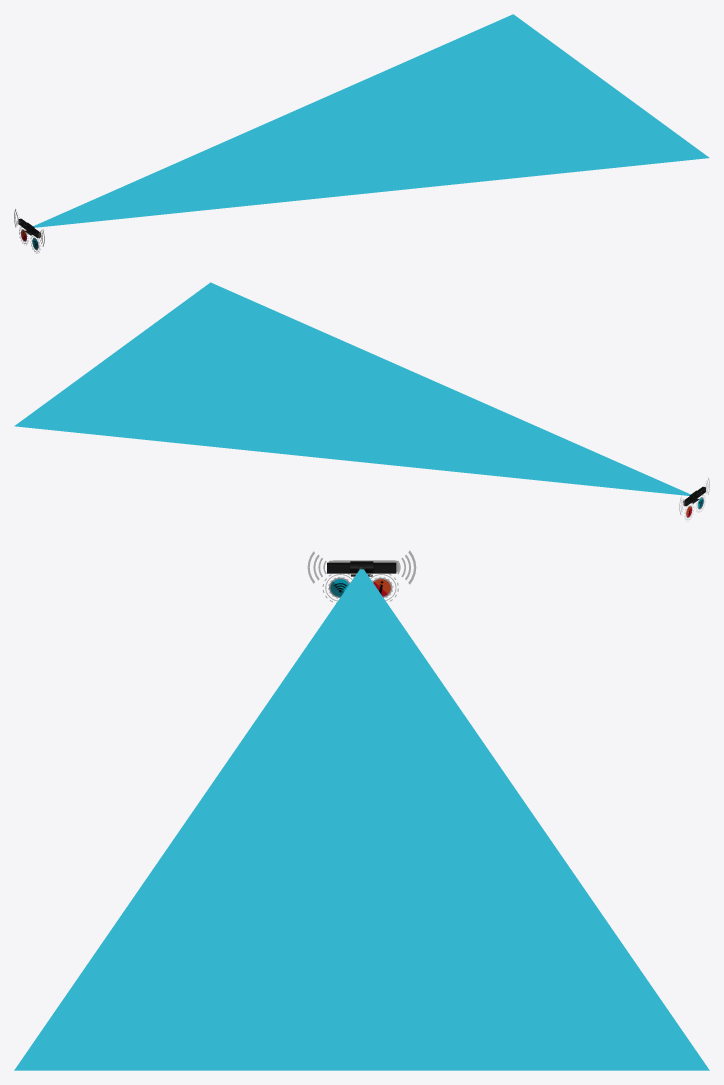
The model's file is LargeProps_Bar.glb.
3 views of the same model, one above another, from view 1: azimuth 30°, elevation 25°; view 2: azimuth 150°, elevation 25°; view 3: azimuth 270°, elevation 25° (orthographic). The views are drawn at different scales.
Visible parts, largest first — view 1: Range_Bar; view 2: Range_Bar; view 3: Range_Bar, LargeProps_Bar.
Part boxes in pixels (bbox=[...]): Range_Bar: bbox=[33, 14, 709, 227]; Range_Bar: bbox=[14, 282, 690, 495]; Range_Bar: bbox=[14, 569, 709, 1070]; LargeProps_Bar: bbox=[327, 561, 396, 576].
Bounding box in the file's own units: 11.97 × 0.5926 × 6.96.
8 materials, 4 textured.
